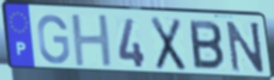4: (116, 15, 148, 70)
B: (188, 19, 227, 73)
G: (35, 12, 72, 65)
H: (69, 13, 115, 68)
N: (224, 20, 267, 74)
X: (149, 15, 188, 73)
